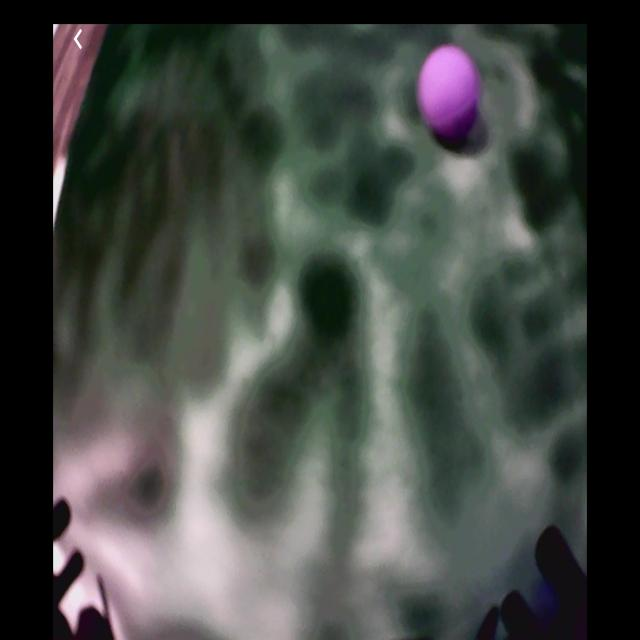ball: (420, 47, 479, 135)
